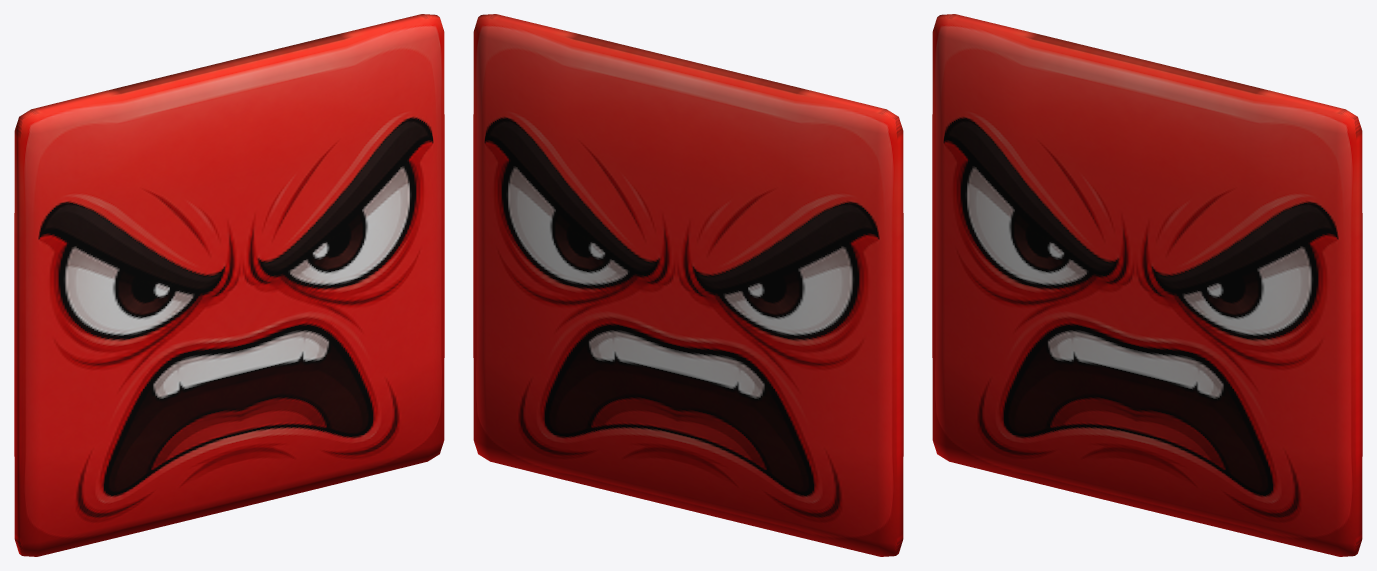
The model's file is Card.fbx.
3 views of the same model, side by side, from view 1: azimuth 30°, elevation 25°; view 2: azimuth 150°, elevation 25°; view 3: azimuth 330°, elevation 25° (orthographic).
Parts seen in each view (by area): view 1: Cube; view 2: Cube; view 3: Cube.
Part boxes in pixels (x1,y1,x2,y2): Cube: [14, 14, 444, 556]; Cube: [473, 14, 903, 556]; Cube: [932, 14, 1362, 556].
Bounding box in the file's own units: 75 × 75 × 7.5.
